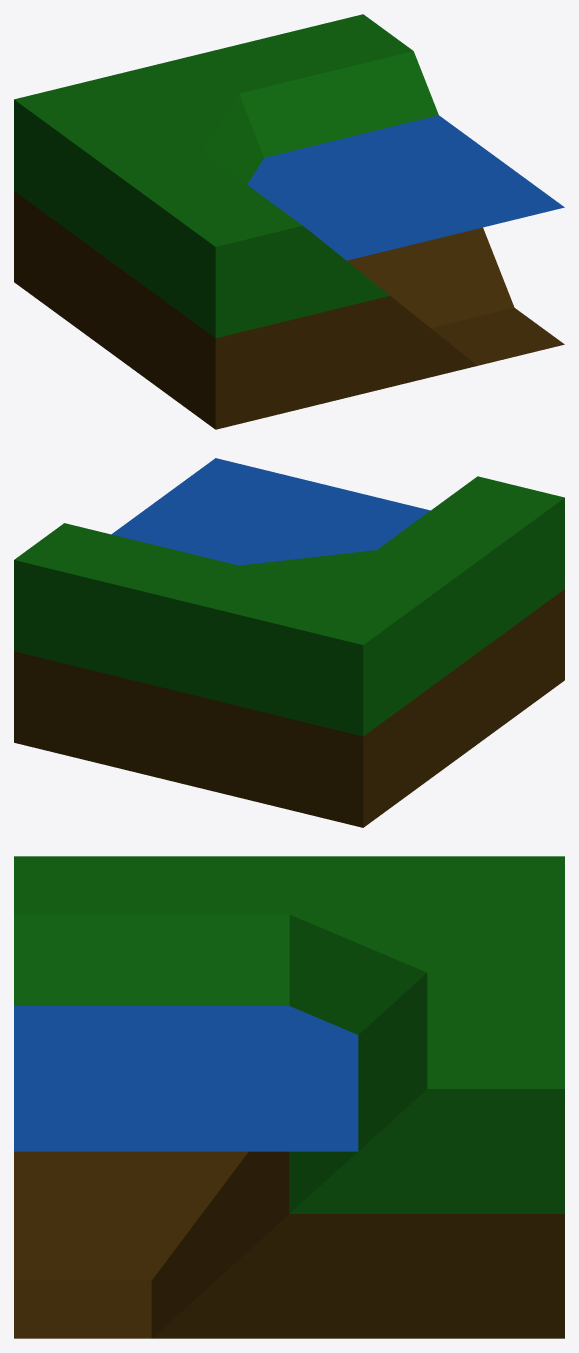
File: lake-curve.obj
3 renders of one model, top to bottom at view 1: azimuth 30°, elevation 25°; view 2: azimuth 150°, elevation 25°; view 3: azimuth 270°, elevation 25°, orthographic. The views are drawn at different scales.
Parts seen in each view (by area): view 1: grass, dirt, water; view 2: grass, dirt, water; view 3: grass, dirt, water.
Part boxes in pixels (x1,y1,x2,y2): grass: [14, 14, 438, 338]; dirt: [14, 191, 514, 429]; water: [247, 115, 564, 365]; grass: [14, 476, 564, 736]; dirt: [14, 589, 564, 827]; water: [111, 458, 430, 565]; grass: [14, 856, 564, 1213]; dirt: [14, 1151, 564, 1338]; water: [14, 1006, 358, 1338].
Size of the model in its own units: 1 by 0.5 by 1.
3 materials, 3 textured.
